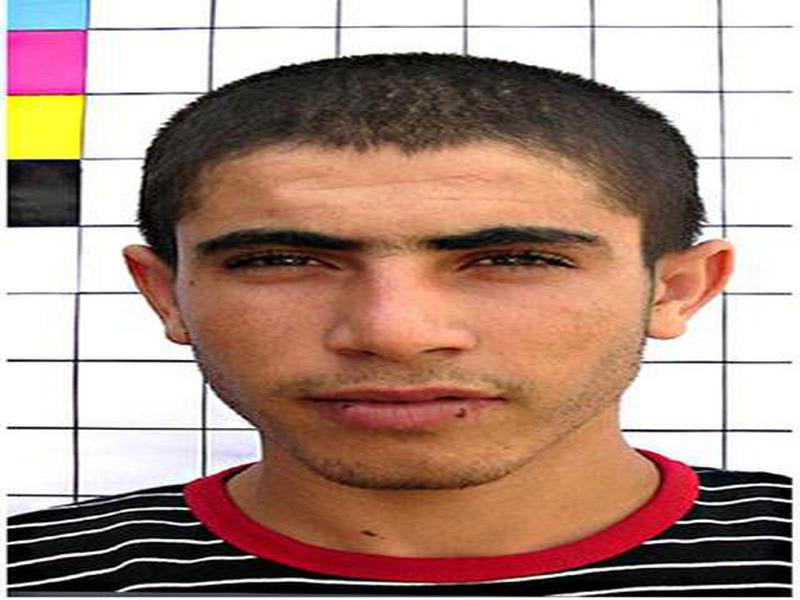without_mask: (159, 136, 648, 495)
